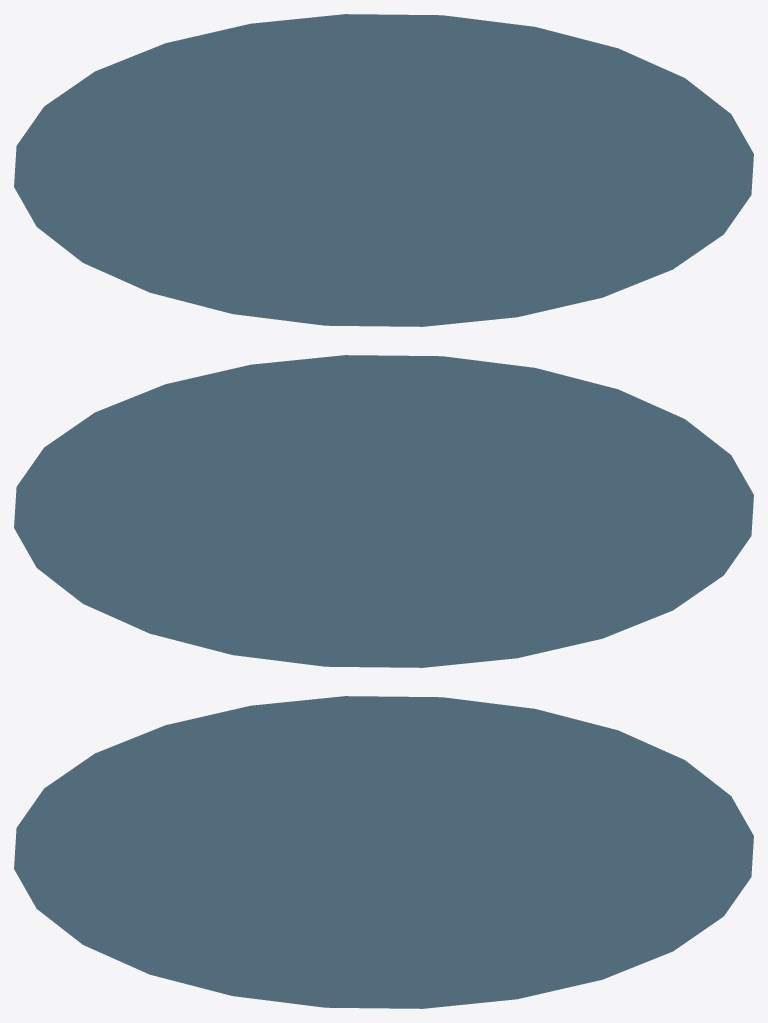
File: original-2.obj
3 renders of one model, top to bottom at view 1: azimuth 30°, elevation 25°; view 2: azimuth 150°, elevation 25°; view 3: azimuth 270°, elevation 25°, orthographic.
Parts seen in each view (by area): view 1: #ID13; view 2: #ID13; view 3: #ID13.
Part boxes in pixels (box(x1,y1,x2,y2)): #ID13: box(14, 14, 753, 326); #ID13: box(14, 355, 753, 667); #ID13: box(14, 696, 753, 1008).
Bounding box in the file's own units: 1.32 × 0 × 1.32.
